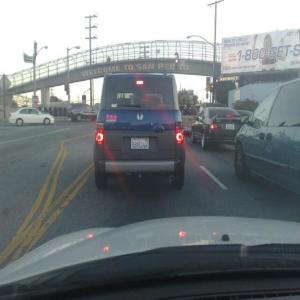Vehicle-registration-plate: (133, 139, 151, 151), (226, 125, 236, 129)
